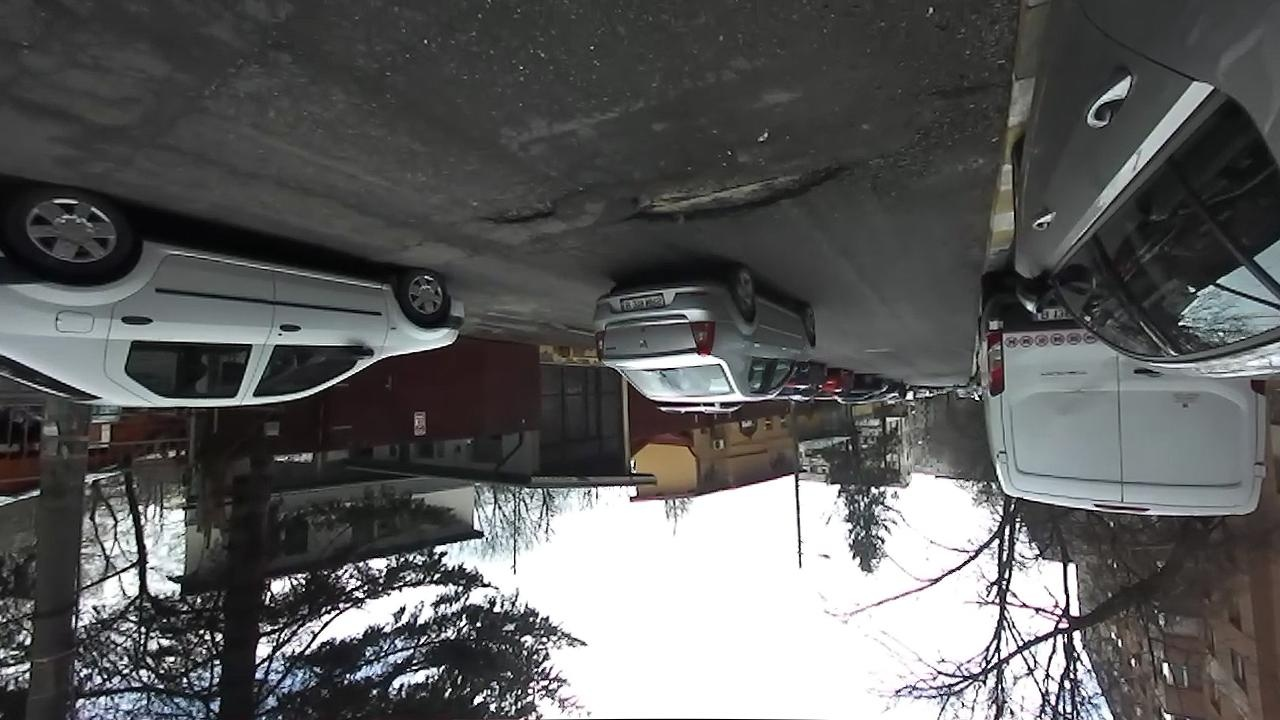pothole: (623, 155, 859, 230), (474, 191, 567, 230)
